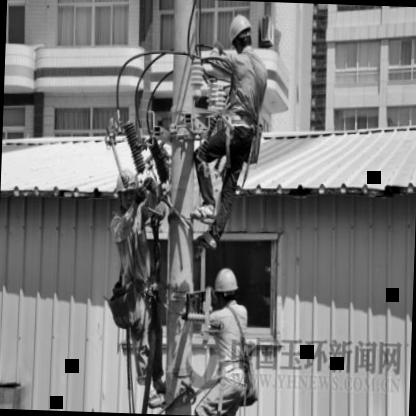helmet: (212, 264, 242, 309), (226, 12, 255, 58), (113, 162, 140, 207)
